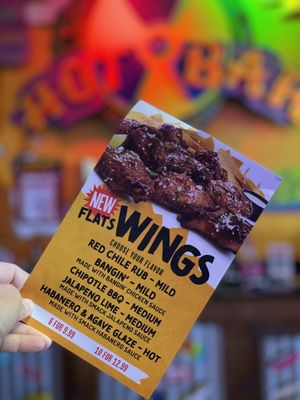salad: (94, 102, 265, 252)
